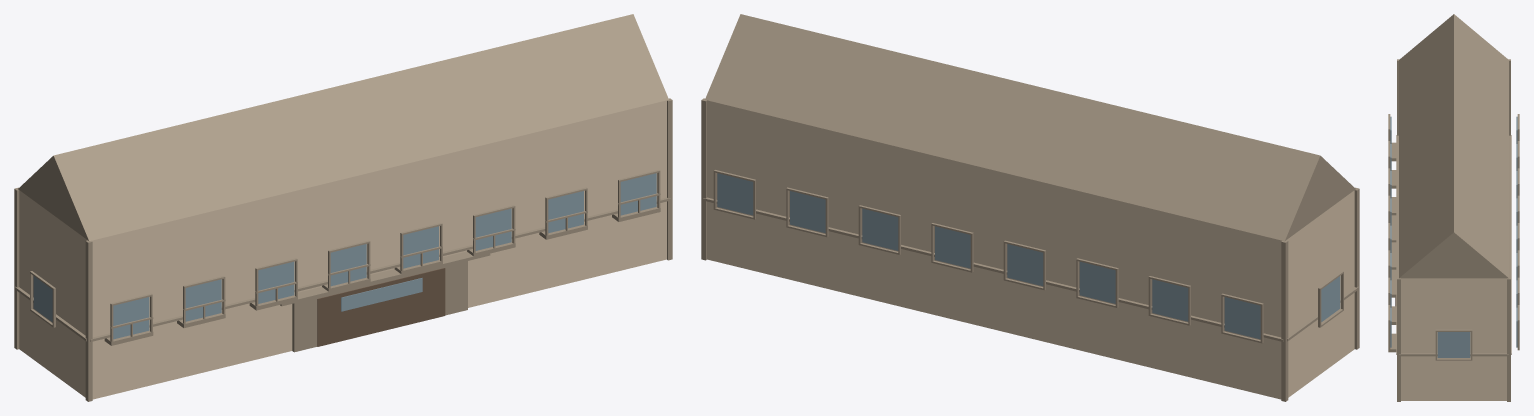
File: lot_4x1_gable.glb
3 renders of one model, left to right at view 1: azimuth 30°, elevation 25°; view 2: azimuth 150°, elevation 25°; view 3: azimuth 270°, elevation 25°, orthographic. The views are drawn at different scales.
Visible parts, largest first — view 1: lot_4x1_gable; view 2: lot_4x1_gable; view 3: lot_4x1_gable.
Part boxes in pixels (x1,y1,x2,y2): lot_4x1_gable: (14, 14, 672, 401); lot_4x1_gable: (701, 14, 1359, 401); lot_4x1_gable: (1388, 14, 1519, 401).
Bounding box in the file's own units: 31.74 × 11 × 7.74.
